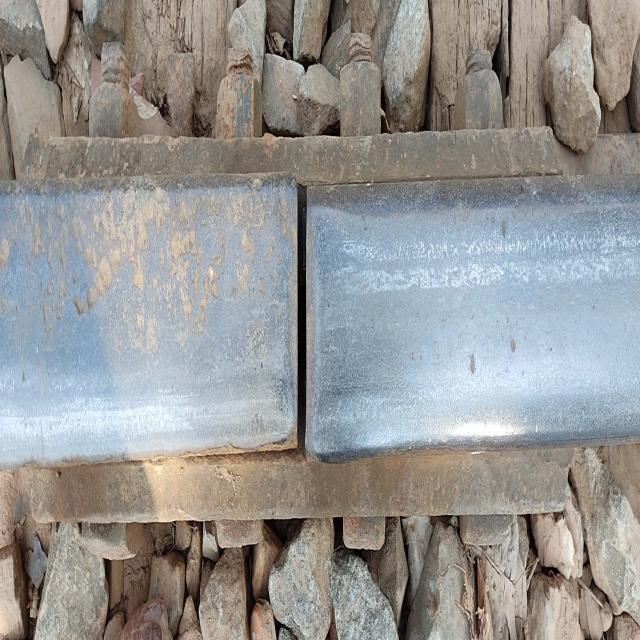Good Joint: (31, 33, 596, 573)
